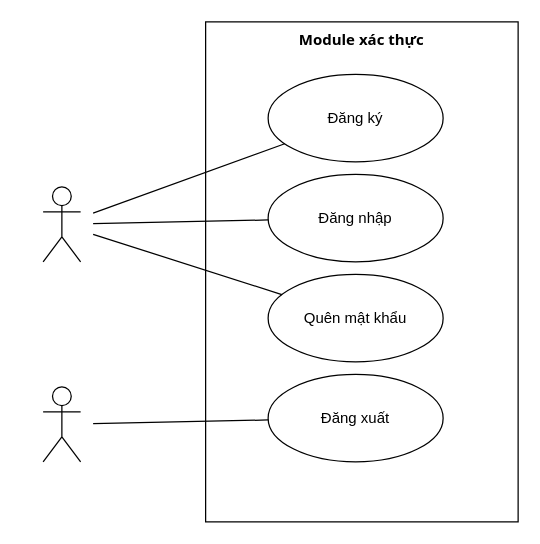
This 540x544 diagram has some shape labels left out. Each missing label, with the centre of its shape:
"Khách" belongs at point (61, 224).
"Người dùng" belongs at point (61, 424).
